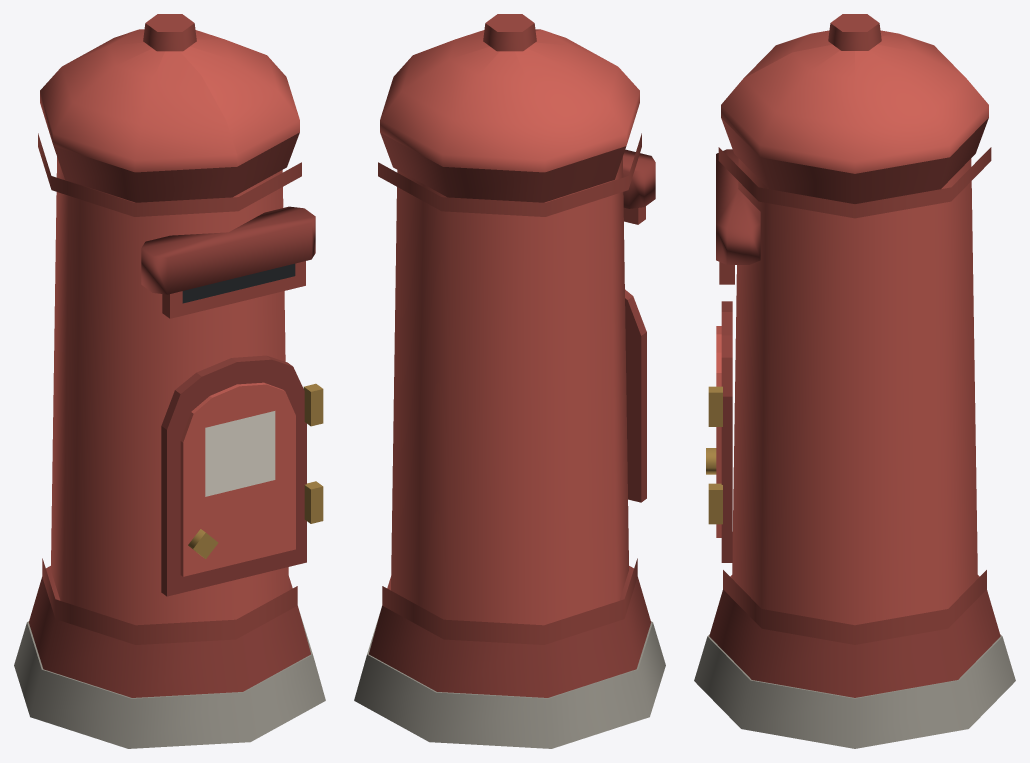
The model's file is pillar-post-box.glb.
3 renders of one model, left to right at view 1: azimuth 30°, elevation 25°; view 2: azimuth 150°, elevation 25°; view 3: azimuth 270°, elevation 25°, orthographic.
Parts seen in each view (by area): view 1: Merged_prop-body, Merged_prop-accent, Merged_city-curb, Merged_prop-body-surface, Merged_prop-body-deep, Merged_city-poster, Merged_city-brass, Merged_city-rubber-surface; view 2: Merged_prop-body, Merged_prop-accent, Merged_city-curb, Merged_prop-body-deep; view 3: Merged_prop-body, Merged_prop-accent, Merged_city-curb, Merged_prop-body-deep, Merged_city-brass, Merged_prop-body-surface.
Boxes of the visible parts, bbox=[...] form: Merged_prop-body: bbox=[40, 29, 299, 625]; Merged_prop-accent: bbox=[28, 132, 315, 697]; Merged_city-curb: bbox=[14, 612, 325, 748]; Merged_prop-body-surface: bbox=[180, 382, 295, 576]; Merged_prop-body-deep: bbox=[38, 14, 305, 644]; Merged_city-poster: bbox=[205, 411, 275, 496]; Merged_city-brass: bbox=[188, 383, 323, 558]; Merged_city-rubber-surface: bbox=[182, 263, 295, 303]; Merged_prop-body: bbox=[380, 29, 639, 625]; Merged_prop-accent: bbox=[369, 132, 655, 697]; Merged_city-curb: bbox=[354, 612, 665, 748]; Merged_prop-body-deep: bbox=[378, 14, 645, 644]; Merged_prop-body: bbox=[721, 30, 988, 625]; Merged_prop-accent: bbox=[709, 118, 1000, 697]; Merged_city-curb: bbox=[694, 634, 1015, 748]; Merged_prop-body-deep: bbox=[718, 14, 991, 644]; Merged_city-brass: bbox=[706, 386, 722, 524]; Merged_prop-body-surface: bbox=[716, 326, 721, 537].
Size of what is drawn, in the model's own units: 0.72 by 1.62 by 0.72.
